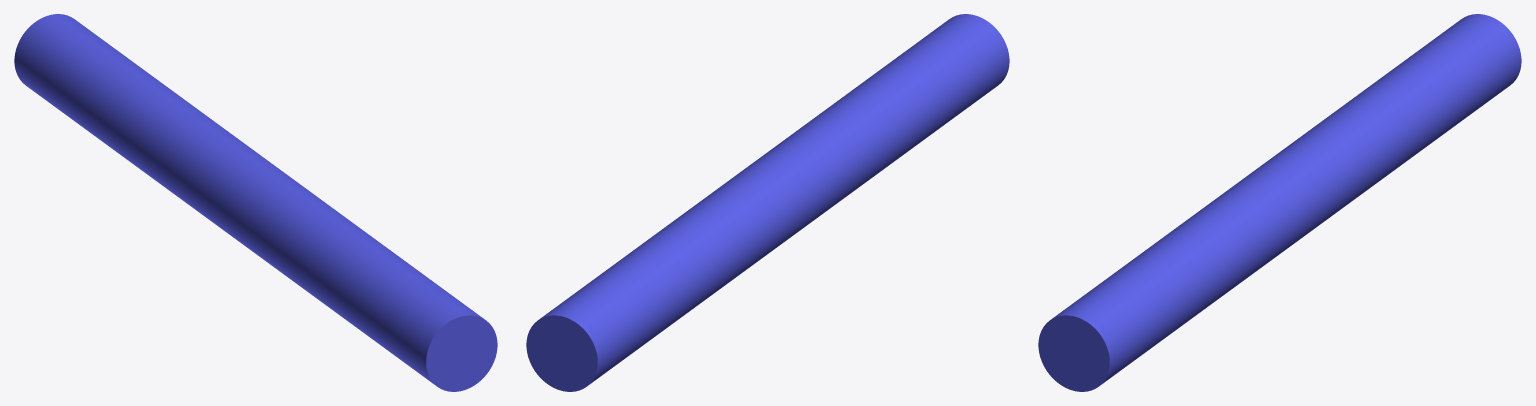
Rendered from bigcylinder.fbx.
The picture shows the model from 3 angles, left to right: view 1: azimuth 30°, elevation 25°; view 2: azimuth 150°, elevation 25°; view 3: azimuth 330°, elevation 25°; orthographic projection.
Visible parts, largest first — view 1: bigcylinder; view 2: bigcylinder; view 3: bigcylinder.
Part boxes in pixels (bbox=[...]): bigcylinder: bbox=[14, 14, 497, 391]; bigcylinder: bbox=[526, 14, 1009, 391]; bigcylinder: bbox=[1038, 14, 1521, 391].
Bounding box in the file's own units: 0.5 × 0.5 × 5.
